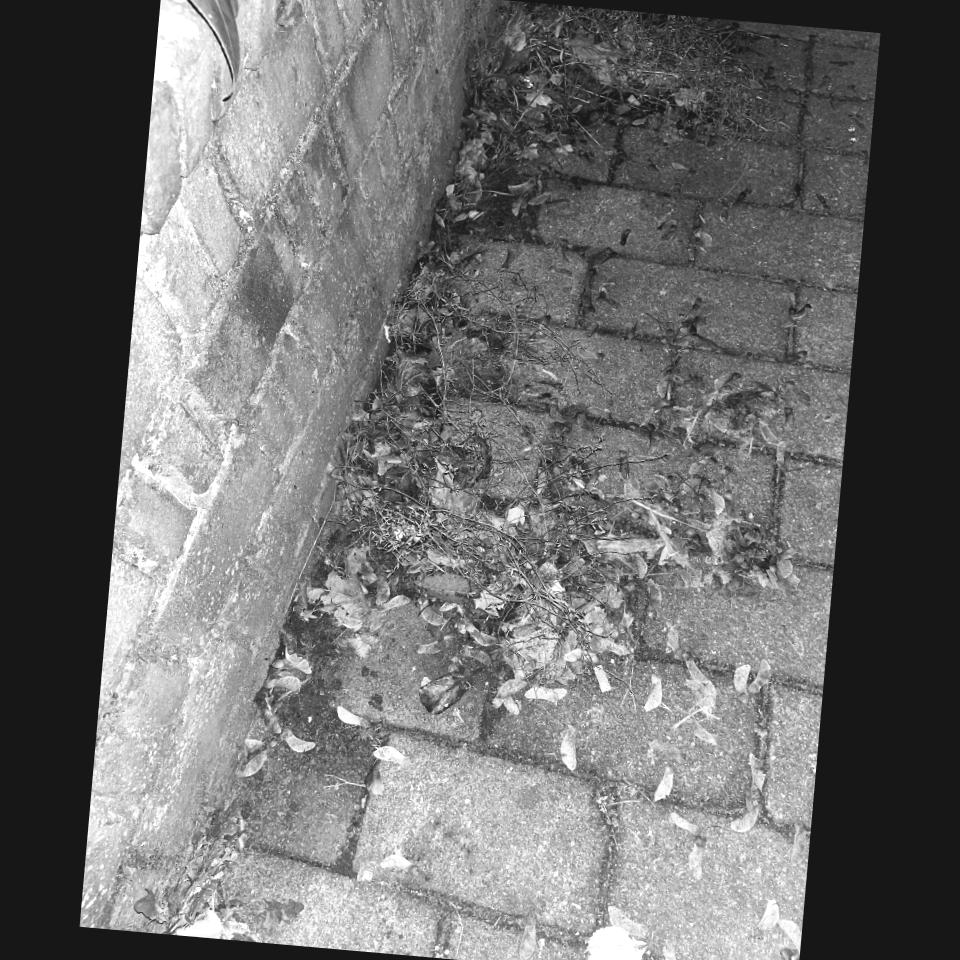weed: (459, 17, 746, 174), (130, 799, 299, 943)
